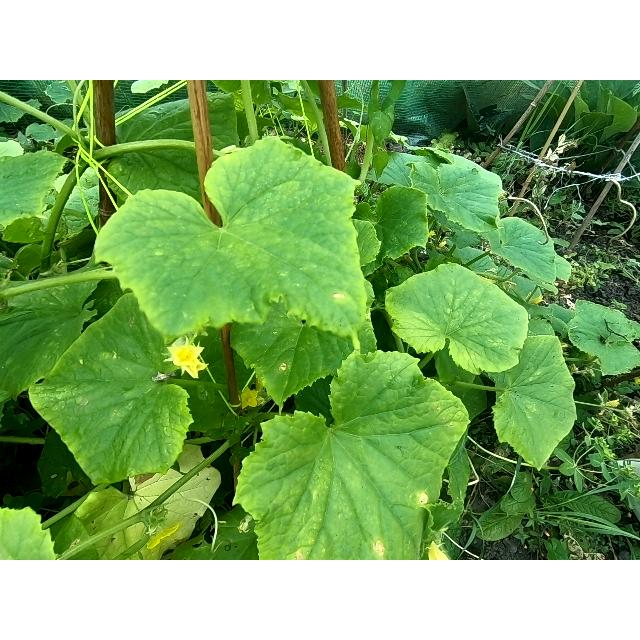Flowers: (162, 338, 210, 382), (238, 381, 262, 412)
